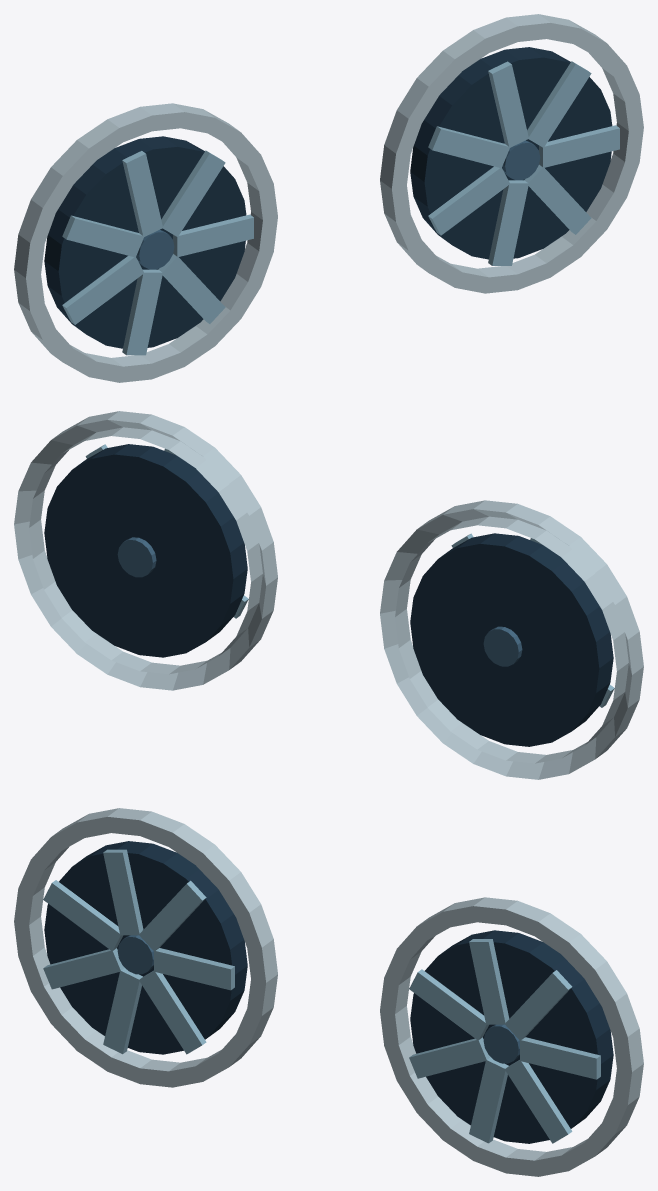
The model's file is 05_L69_CondenserFanBank.fbx.
3 views of the same model, one above another, from view 1: azimuth 30°, elevation 25°; view 2: azimuth 150°, elevation 25°; view 3: azimuth 330°, elevation 25° (orthographic).
Parts seen in each view (by area): view 1: CondenserFanBank; view 2: CondenserFanBank; view 3: CondenserFanBank.
Part boxes in pixels (bbox=[...]): CondenserFanBank: bbox=[14, 14, 643, 382]; CondenserFanBank: bbox=[14, 411, 643, 779]; CondenserFanBank: bbox=[14, 808, 643, 1176].
Size of the model in its own units: 299 by 122 by 18.75.
